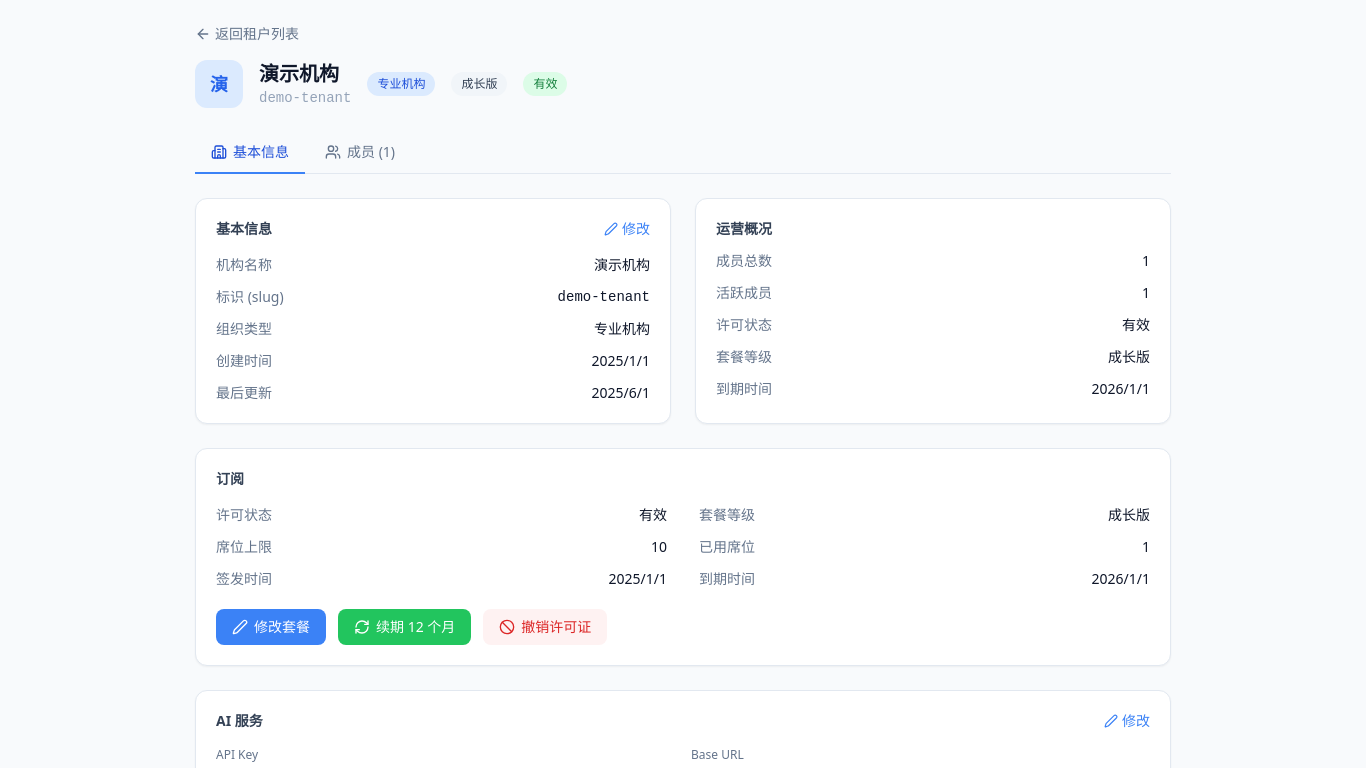
Test: TenantDetail — post-merge characterization › clicking 成员 tab shows the members table heading
Click the button "成员 (1)". click: x=360, y=153
box: [309,132,411,174]
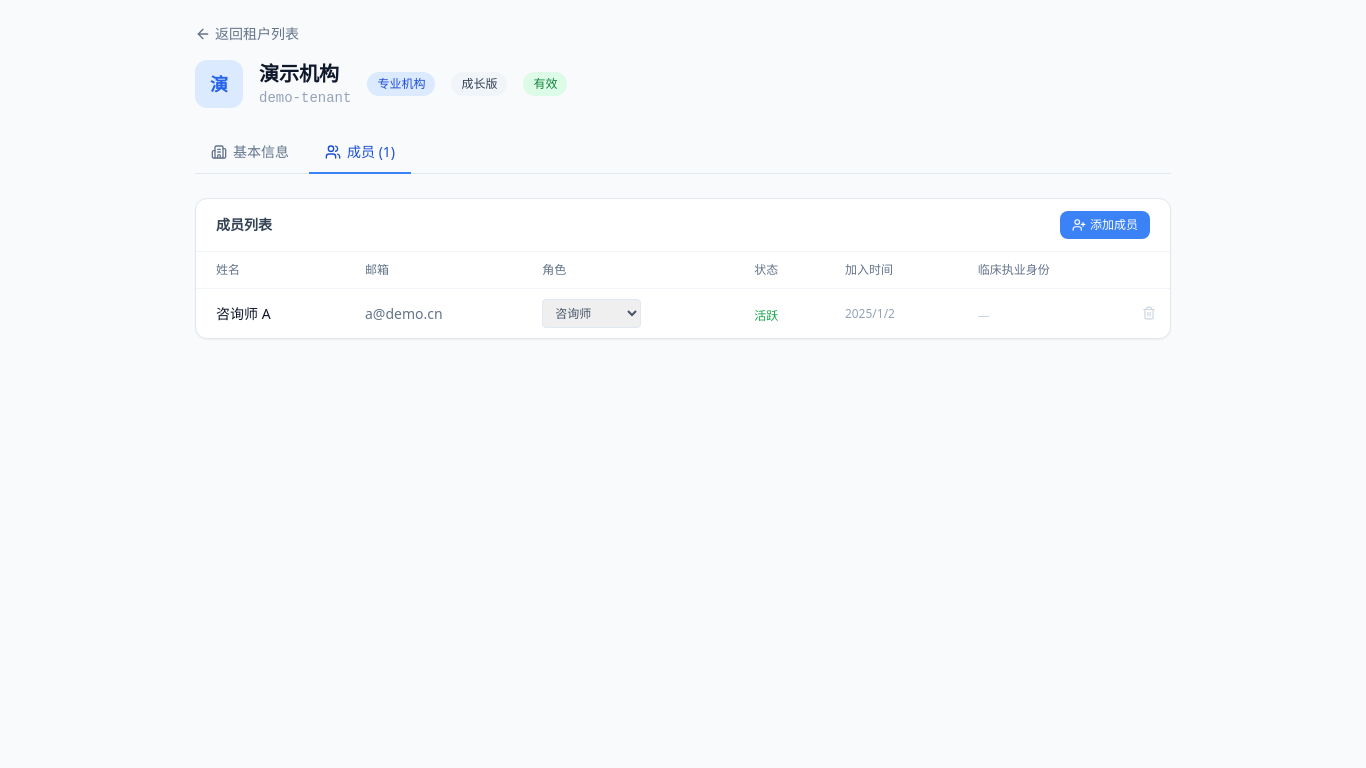
Expected: the heading "成员列表" is shown, [216,215,272,235]
Expected: the text "咨询师 A" is shown, [196,288,349,338]
